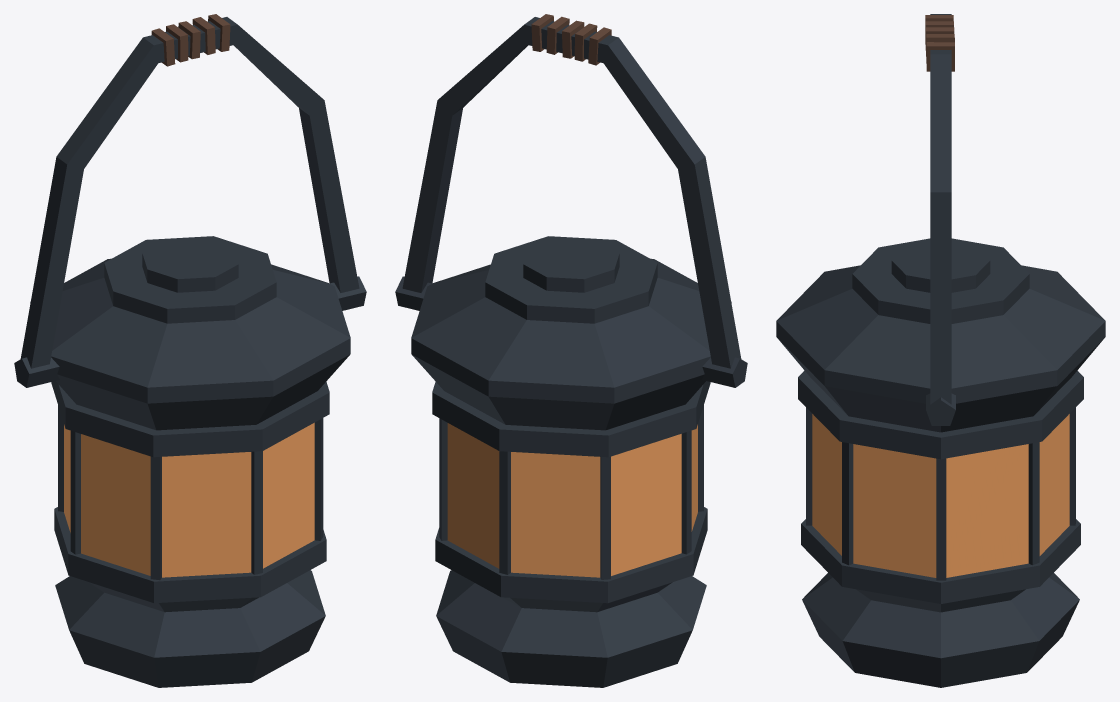
File: Lantern_Handle_Up.fbx
The picture shows the model from 3 angles, left to right: view 1: azimuth 30°, elevation 25°; view 2: azimuth 150°, elevation 25°; view 3: azimuth 270°, elevation 25°; orthographic projection.
Parts seen in each view (by area): view 1: Oil Lamp_HandleUp; view 2: Oil Lamp_HandleUp; view 3: Oil Lamp_HandleUp.
Boxes of the visible parts, box(x1,y1,x2,y2) form: Oil Lamp_HandleUp: box(14, 14, 366, 687); Oil Lamp_HandleUp: box(395, 14, 747, 687); Oil Lamp_HandleUp: box(776, 14, 1105, 687).
Bounding box in the file's own units: 34.95 × 60.55 × 29.78.
